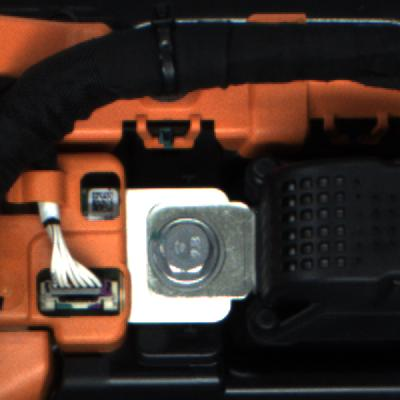nut_b: (143, 212, 229, 294)
